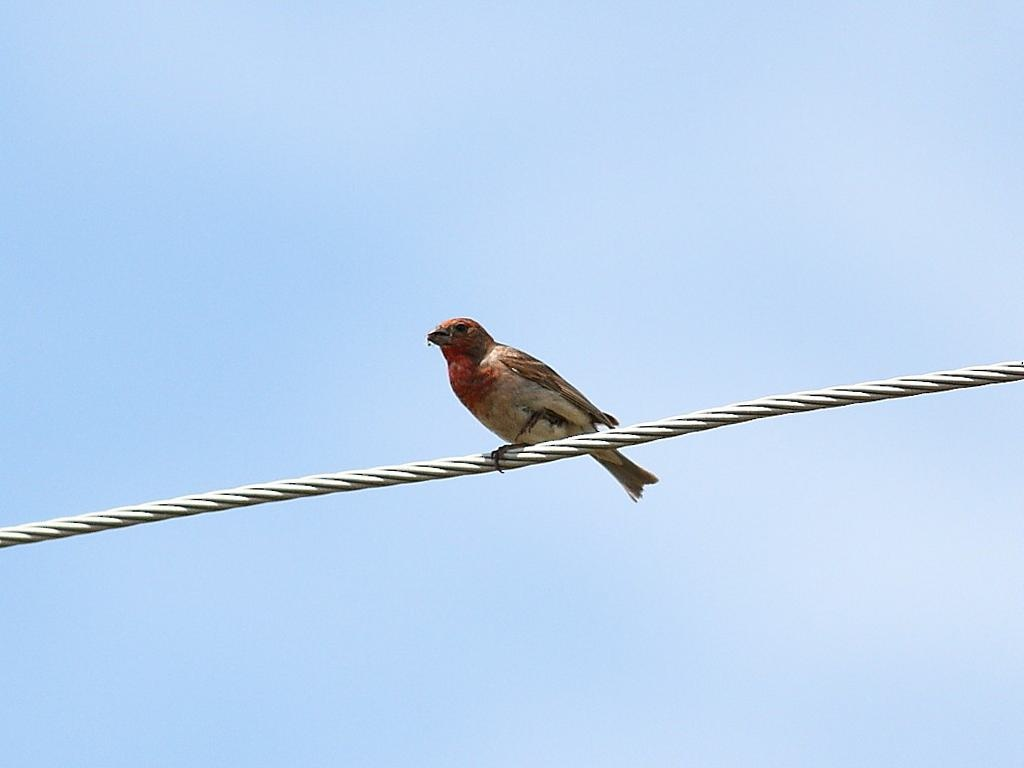rosefinch: (424, 312, 636, 501)
